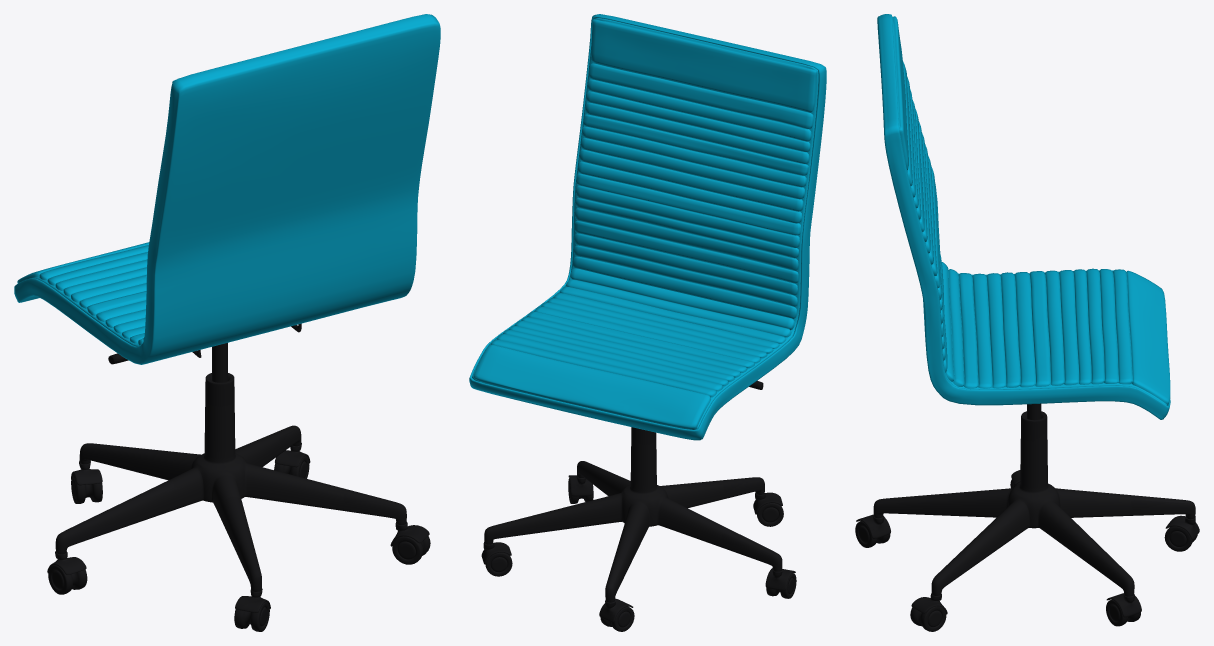
The model's file is sillaModerno.obj.
3 renders of one model, left to right at view 1: azimuth 30°, elevation 25°; view 2: azimuth 150°, elevation 25°; view 3: azimuth 270°, elevation 25°, orthographic. The views are drawn at different scales.
Parts seen in each view (by area): view 1: Line007, Cylinder014, ChamferCyl016, ChamferCyl012, ChamferCyl015, ChamferCyl018; view 2: Line007, Cylinder014, ChamferCyl017, ChamferCyl015; view 3: Line007, Cylinder014, ChamferCyl016, ChamferCyl018, Box226, Box228.
Part boxes in pixels (x1,y1,x2,y2): Line007: (14, 14, 440, 364); Cylinder014: (55, 343, 406, 591); ChamferCyl016: (392, 536, 430, 564); ChamferCyl012: (48, 565, 87, 594); ChamferCyl015: (234, 602, 269, 631); ChamferCyl018: (71, 473, 102, 503); Line007: (469, 14, 826, 440); Cylinder014: (484, 427, 782, 602); ChamferCyl017: (485, 552, 512, 576); ChamferCyl015: (756, 503, 783, 526); Line007: (877, 14, 1170, 419); Cylinder014: (873, 403, 1195, 596); ChamferCyl016: (910, 606, 946, 631); ChamferCyl018: (1164, 526, 1197, 551); Box226: (1106, 593, 1141, 617); Box228: (856, 514, 890, 538).
Bounding box in the file's own units: 59.42 × 99.52 × 61.76.
2 materials, 2 textured.
